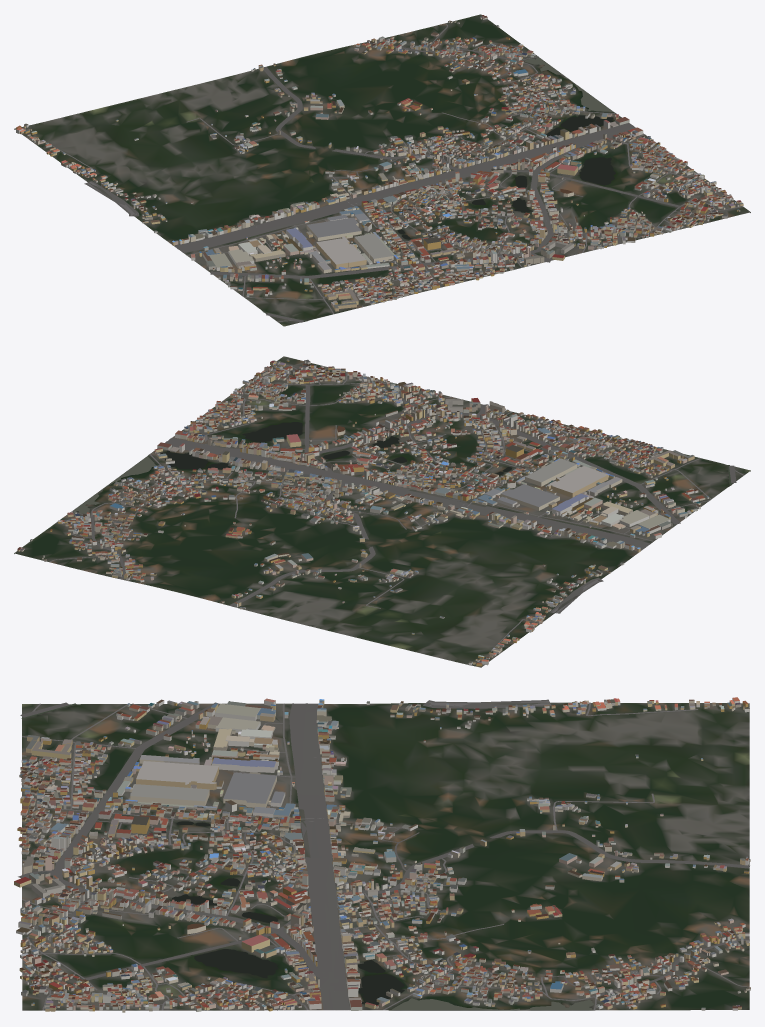
The picture shows the model from 3 angles, top to bottom: view 1: azimuth 30°, elevation 25°; view 2: azimuth 150°, elevation 25°; view 3: azimuth 270°, elevation 25°; orthographic projection. The views are drawn at different scales.
Parts seen in each view (by area): view 1: ground, buildings, roads, water; view 2: ground, buildings, roads, water; view 3: ground, buildings, roads, water.
Part boxes in pixels (x1=…): ground: x1=14, y1=14, x2=750, y2=326; buildings: x1=16, y1=15, x2=743, y2=311; roads: x1=45, y1=23, x2=742, y2=322; water: x1=263, y1=57, x2=615, y2=321; ground: x1=14, y1=356, x2=750, y2=667; buildings: x1=17, y1=359, x2=708, y2=666; roads: x1=49, y1=365, x2=744, y2=651; water: x1=73, y1=422, x2=731, y2=514; ground: x1=22, y1=702, x2=749, y2=1010; buildings: x1=14, y1=697, x2=750, y2=1012; roads: x1=18, y1=699, x2=749, y2=1010; water: x1=21, y1=703, x2=594, y2=1009.
Bounding box in the file's own units: 1424 × 32.14 × 1420.
